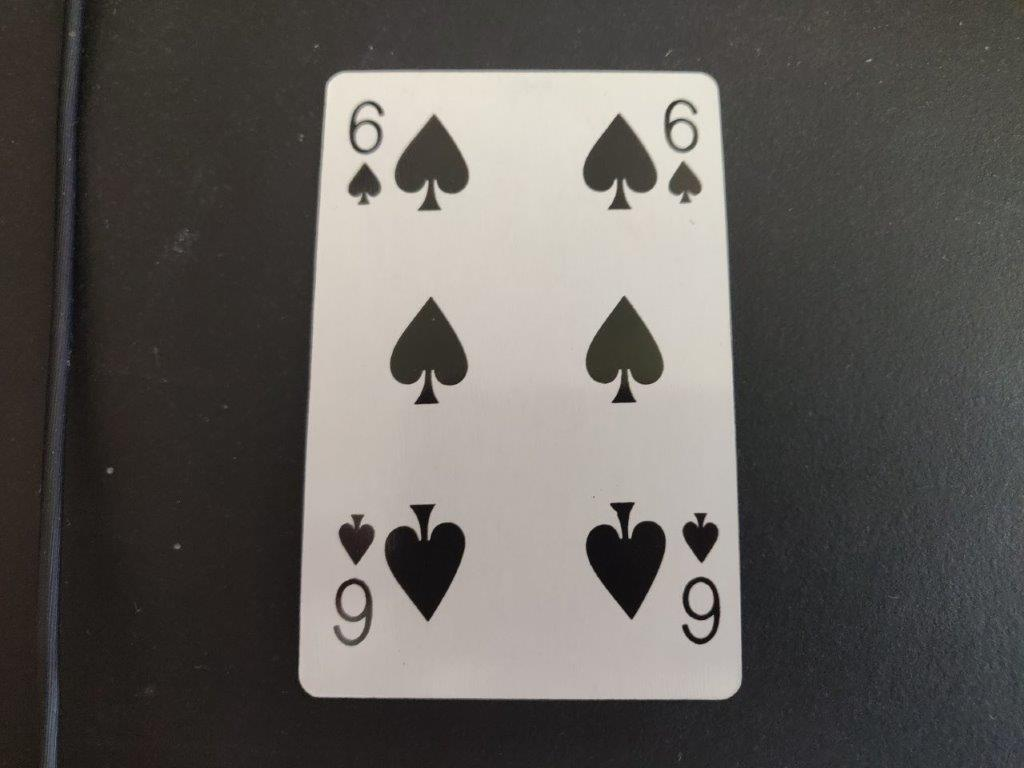6S: (660, 96, 708, 206), (345, 95, 387, 212)
